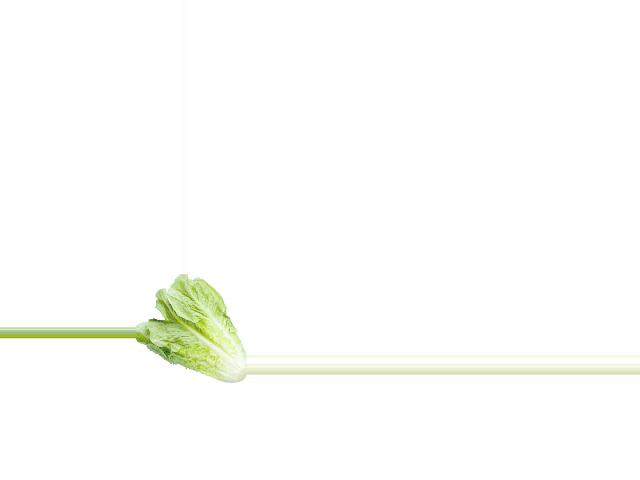lettuce: (138, 272, 245, 383)
